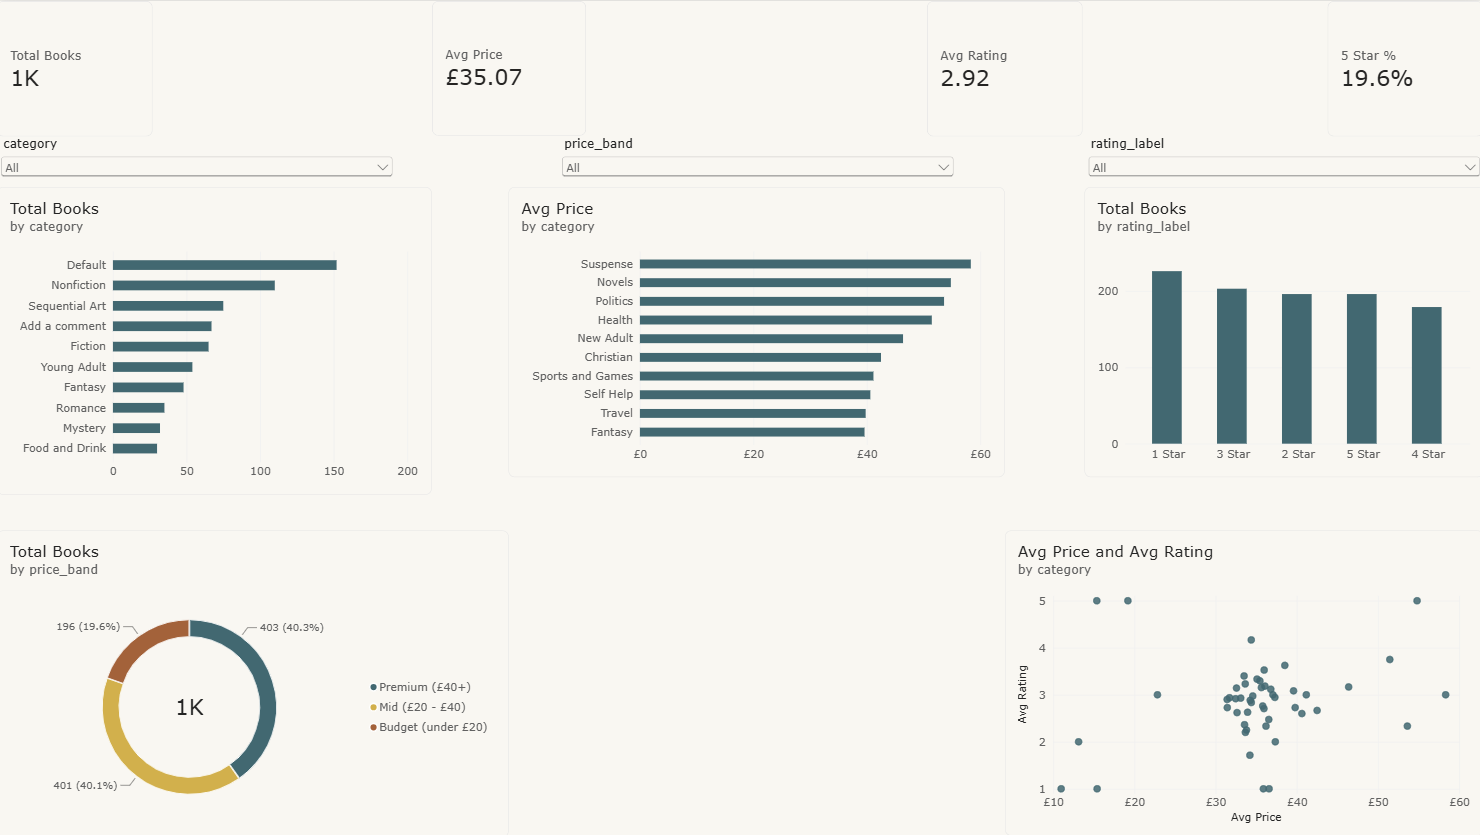

What the dashboard file says about the page in this screenshot:
{"tool":"powerbi","page":{"name":"Page 1","canvas":[1920,1080],"ordinal":0},"visuals":[{"type":"cardVisual","fields":{"Data":["clean_books.Total Books"]},"box":[0,0,201.3,175.7],"z":0},{"type":"cardVisual","fields":{"Data":["clean_books.Avg Price"]},"box":[561,0,199.9,174.9],"z":1000},{"type":"cardVisual","fields":{"Data":["clean_books.Avg Rating"]},"box":[1201.5,0,201.3,175.7],"z":2000},{"type":"cardVisual","fields":{"Data":["clean_books.5 Star %"]},"box":[1717.1,0,201.3,175.7],"z":3000},{"type":"clusteredBarChart","fields":{"Category":["clean_books.category"],"Y":["clean_books.Total Books"]},"box":[0,240.8,561,397.5],"z":4000},{"type":"clusteredBarChart","fields":{"Category":["clean_books.category"],"Y":["clean_books.Avg Price"]},"box":[661,240.8,640.5,374.8],"z":5000},{"type":"clusteredColumnChart","fields":{"Category":["clean_books.rating_label"],"Y":["clean_books.Total Books"]},"box":[1403.7,240.8,515.6,374.8],"z":6000},{"type":"donutChart","fields":{"Category":["clean_books.price_band"],"Y":["clean_books.Total Books"]},"box":[0,683.7,660.4,397],"z":7000},{"type":"slicer","fields":{"Values":["clean_books.category"]},"box":[0,174.9,515.6,65.9],"z":7001},{"type":"slicer","fields":{"Values":["clean_books.price_band"]},"box":[724.5,174.9,515.6,65.9],"z":7002},{"type":"slicer","fields":{"Values":["clean_books.rating_label"]},"box":[1403.7,174.9,515.6,65.9],"z":7003},{"type":"scatterChart","fields":{"Category":["clean_books.category"],"X":["clean_books.Avg Price"],"Y":["clean_books.Avg Rating"]},"box":[1301.5,683.7,617.8,395.2],"z":7004}]}

Visuals, with their boxes in screenshot pixels (x1, y1, x2, y2), scaled from the page's 1920x1080 canvas onto the 1480x835 screenshot:
cardVisual - clean_books.Total Books: detection(0, 0, 155, 136)
cardVisual - clean_books.Avg Price: detection(432, 0, 587, 135)
cardVisual - clean_books.Avg Rating: detection(926, 0, 1081, 136)
cardVisual - clean_books.5 Star %: detection(1324, 0, 1479, 136)
clusteredBarChart - clean_books.category x clean_books.Total Books: detection(0, 186, 432, 494)
clusteredBarChart - clean_books.category x clean_books.Avg Price: detection(510, 186, 1003, 476)
clusteredColumnChart - clean_books.rating_label x clean_books.Total Books: detection(1082, 186, 1479, 476)
donutChart - clean_books.price_band x clean_books.Total Books: detection(0, 529, 509, 834)
slicer - clean_books.category: detection(0, 135, 397, 186)
slicer - clean_books.price_band: detection(558, 135, 956, 186)
slicer - clean_books.rating_label: detection(1082, 135, 1479, 186)
scatterChart - clean_books.category x clean_books.Avg Price: detection(1003, 529, 1479, 834)
